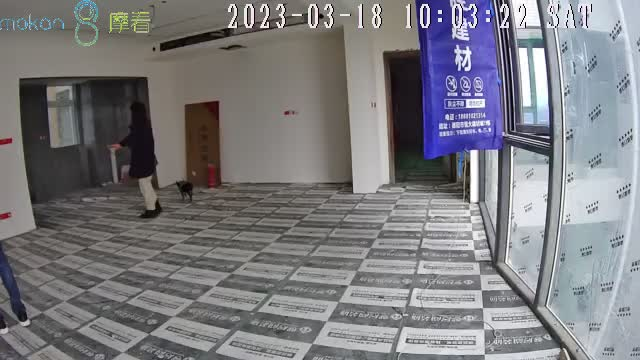people: (113, 103, 161, 220)
window: (415, 2, 640, 359)
